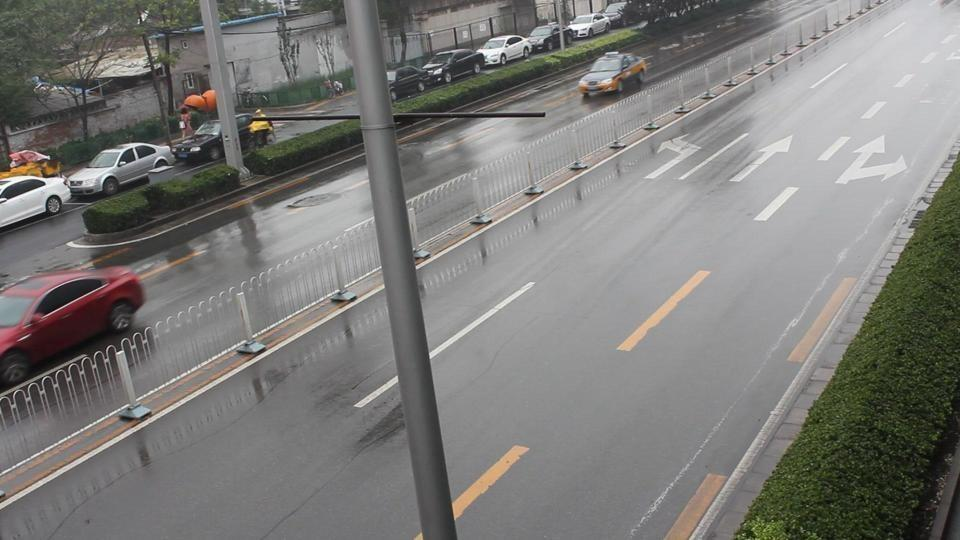car: (0, 262, 148, 392), (65, 141, 176, 200), (1, 174, 72, 232), (578, 51, 649, 98), (172, 120, 235, 165), (422, 49, 485, 83), (479, 34, 531, 69), (386, 65, 437, 99), (5, 149, 63, 178), (565, 12, 611, 40), (526, 23, 563, 54)
